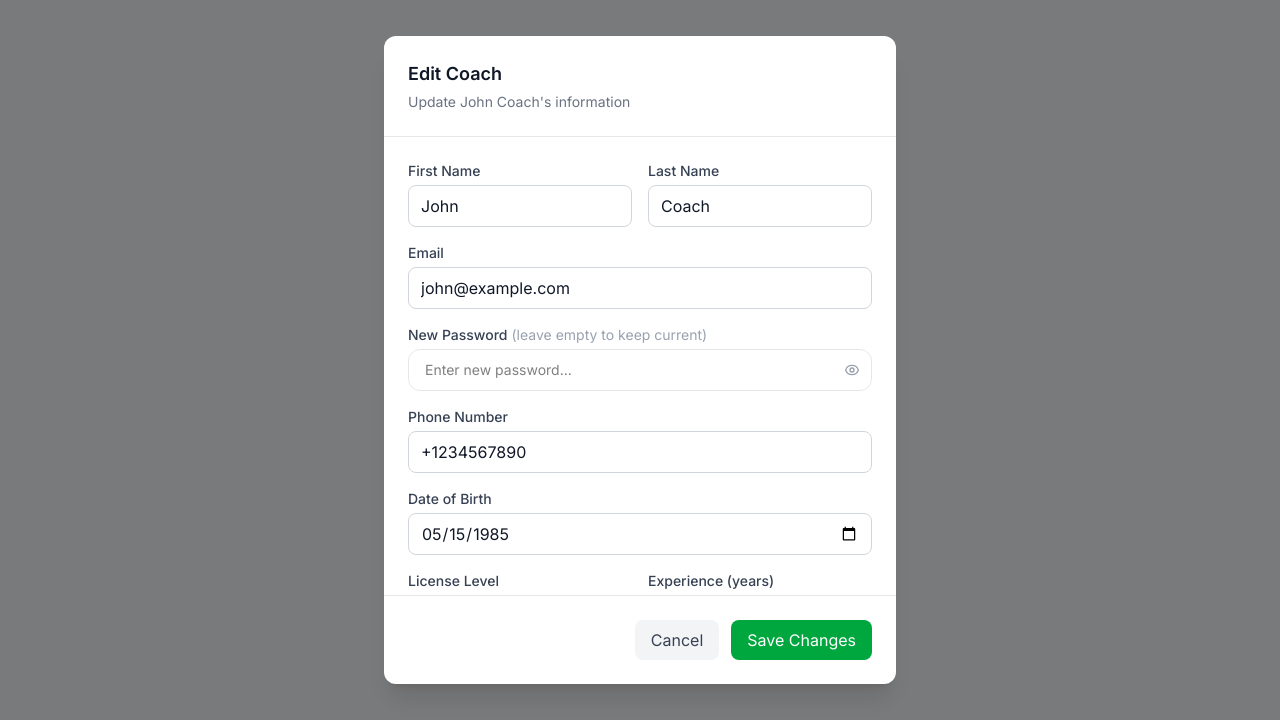
Test: EditUserModal › Form interactions › should display error on save failure
The image size is (1280, 720).
Click the button "Save Changes".
click(802, 640)  # box left=731, top=620, right=872, bottom=660
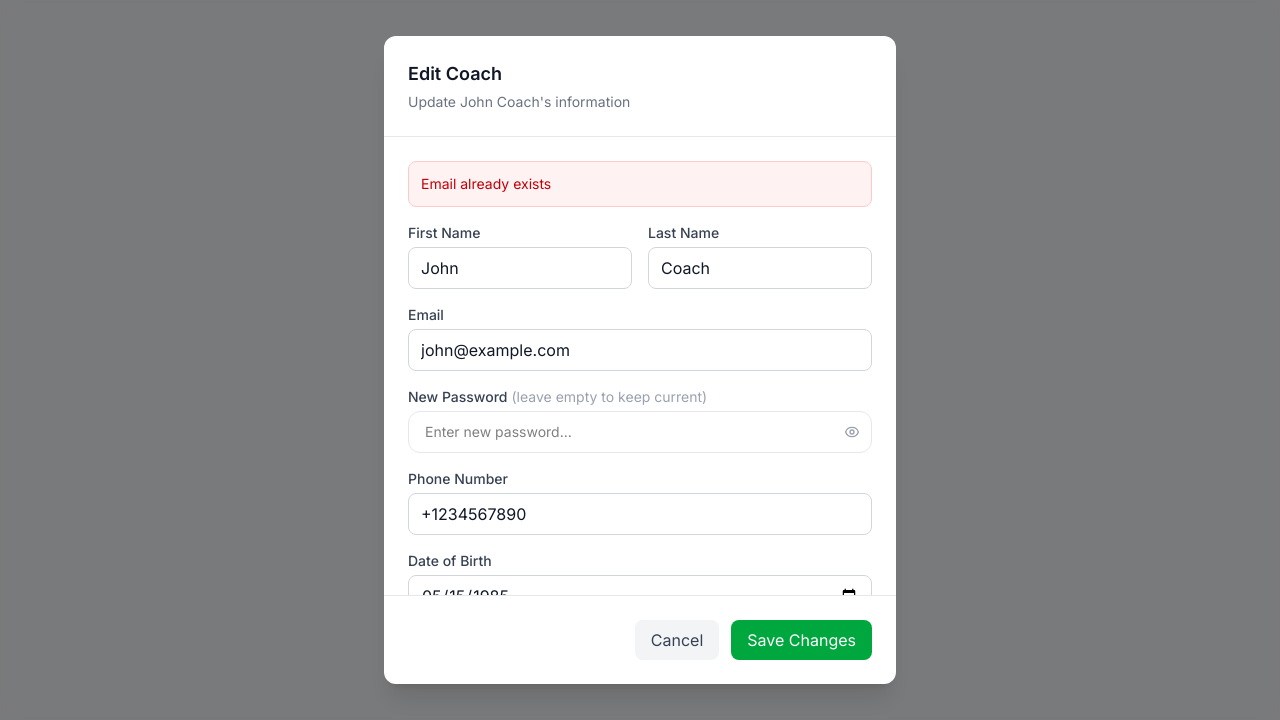
Now the text "Email already exists" is shown, box left=408, top=161, right=872, bottom=207
